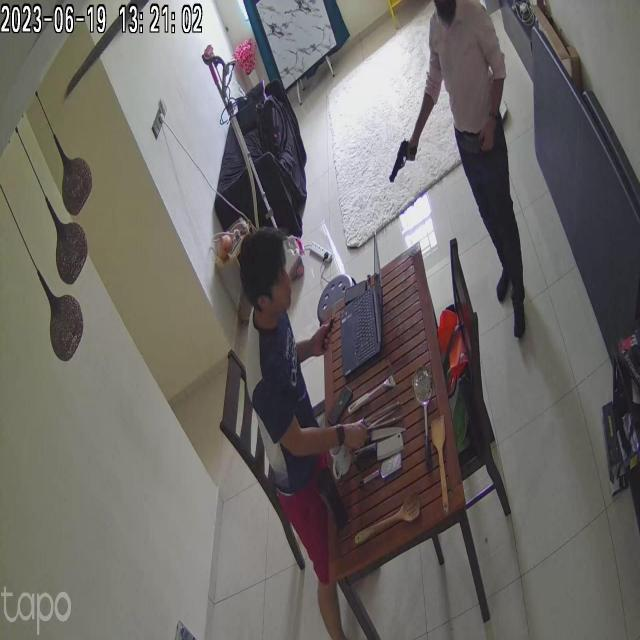Gun: (377, 139, 435, 189)
Knife: (358, 418, 413, 482)
